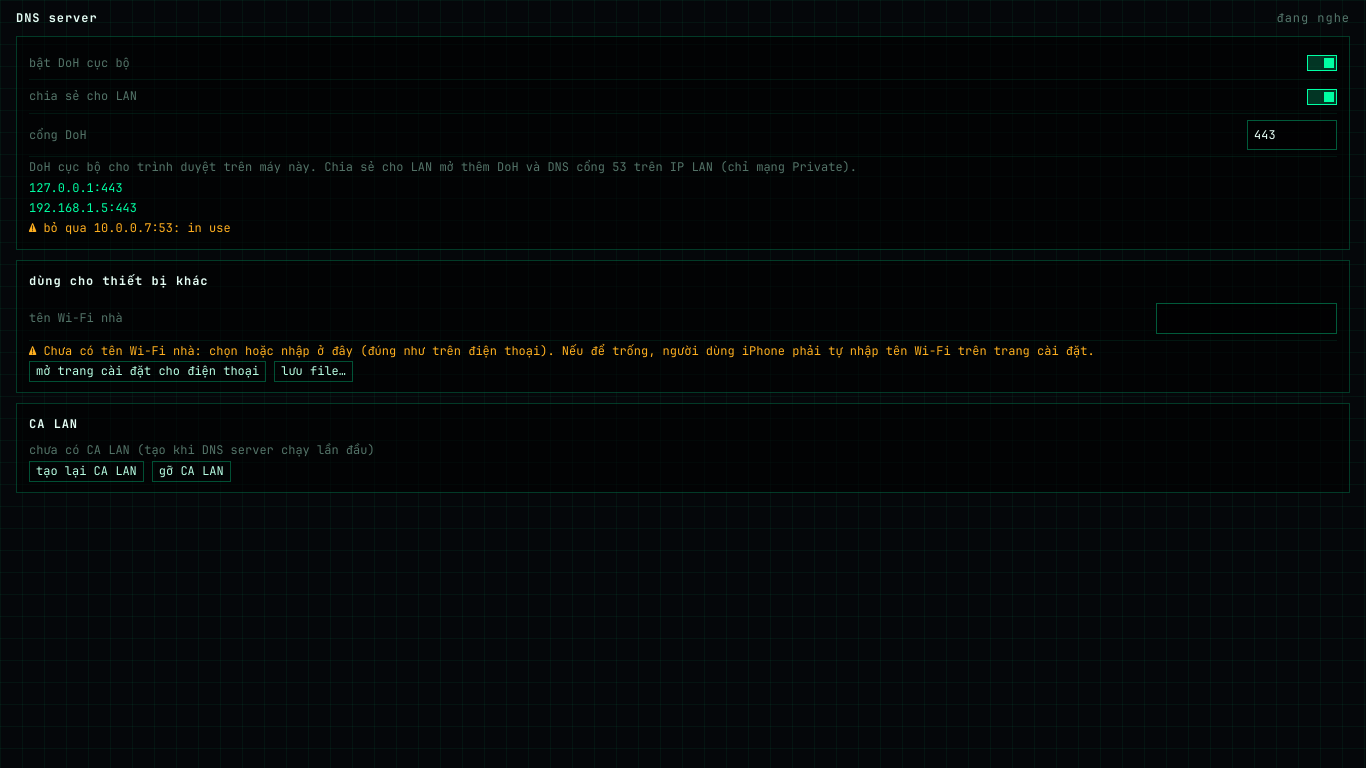
Scenario: toggles and the DoH port save through SetDNSServer
Click the switch named "chia sẻ cho LAN".
click(1322, 97)  # box [1307, 89, 1337, 105]
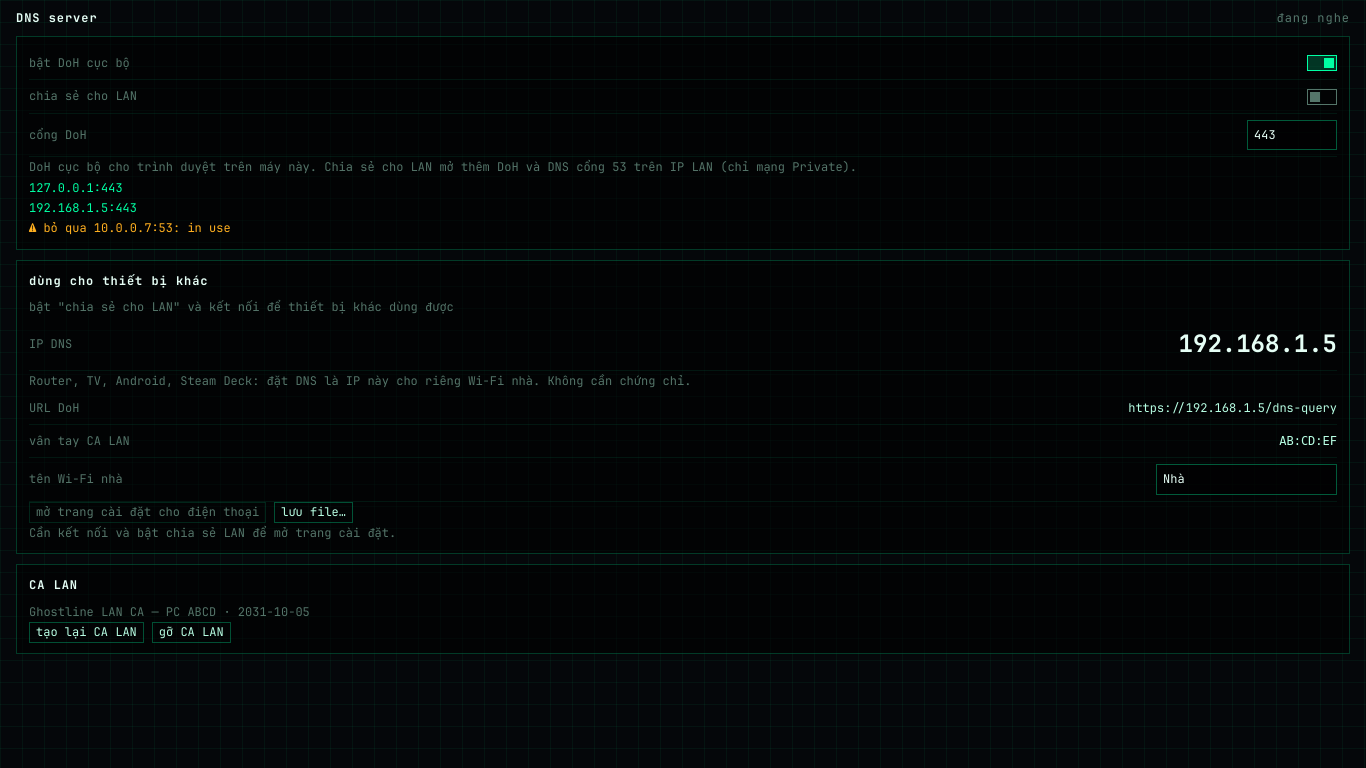
Replace the text in the number field named "cổng DoH" with "8053" at (1292, 135), box [1247, 120, 1337, 150]
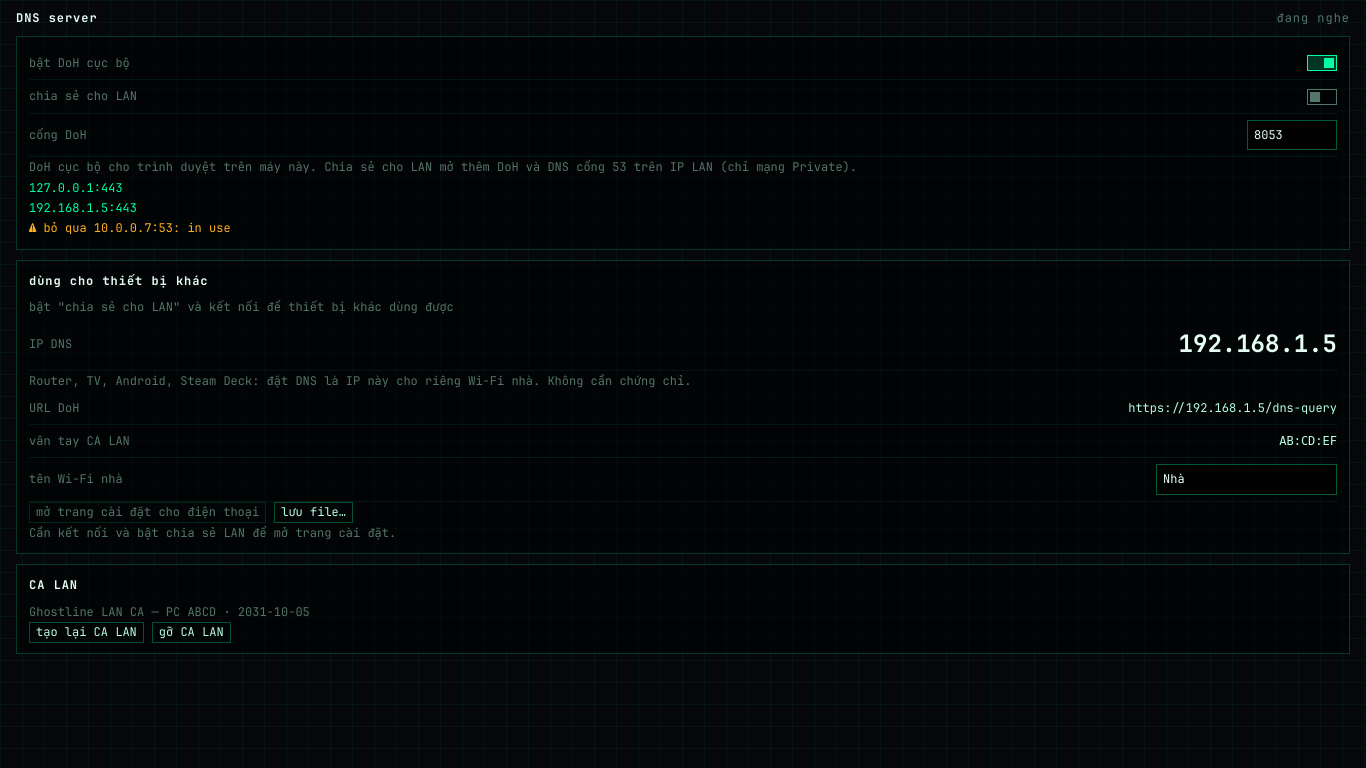
Leave the number field named "cổng DoH", box [1247, 120, 1337, 150]
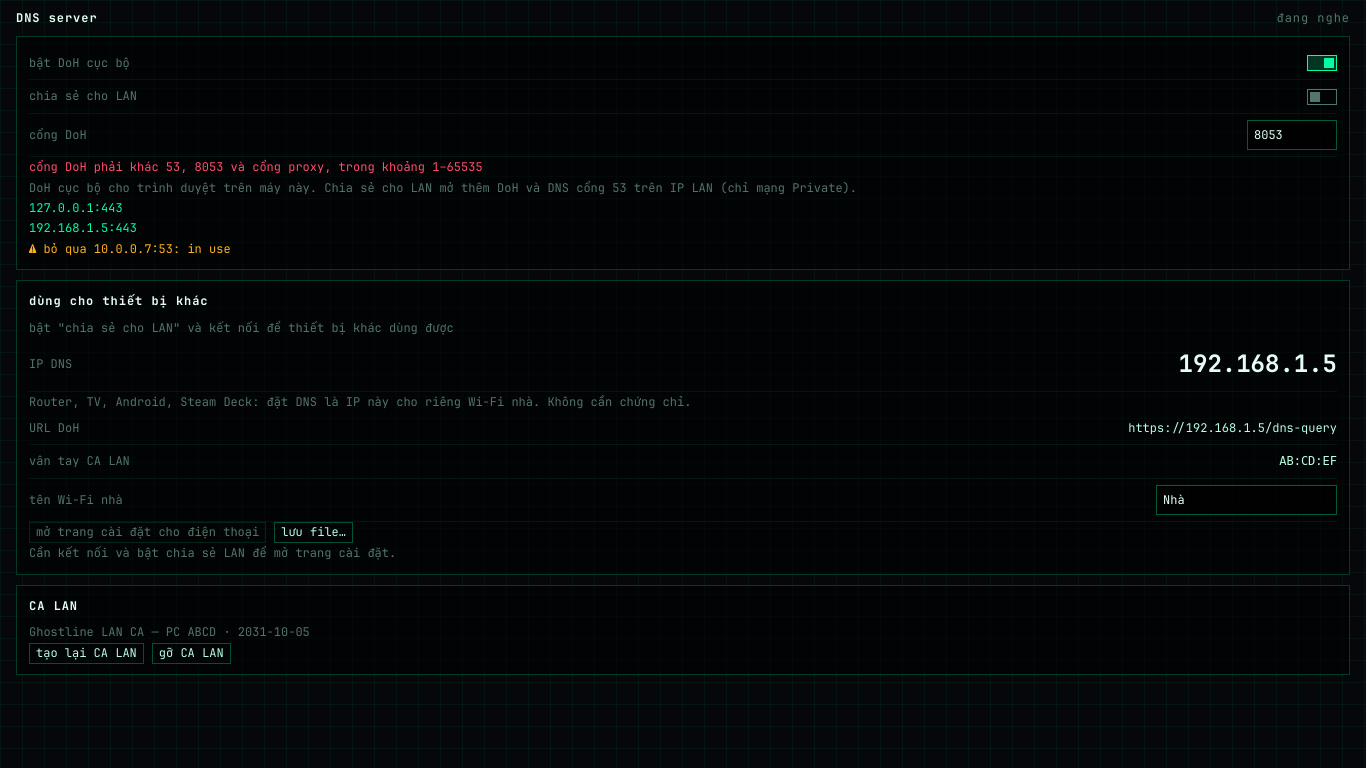
Result: the text "cổng DoH phải khác 53, 8053" is shown at [29, 159, 483, 175]
